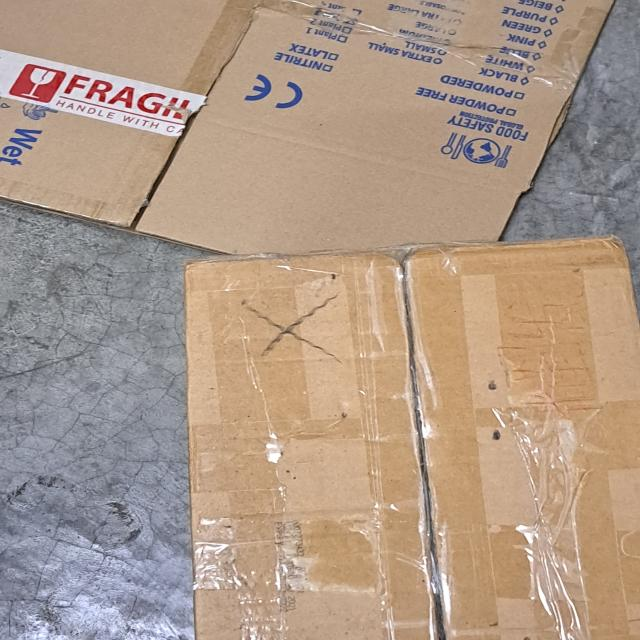cardboard: (181, 235, 640, 640), (0, 0, 640, 258)
